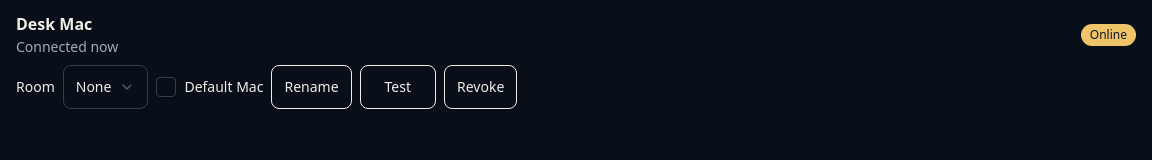
Escape closes the rename input without a request and focus returns to Rename
Click the button "Rename" at coordinates (312, 87), box [272,65,352,109]
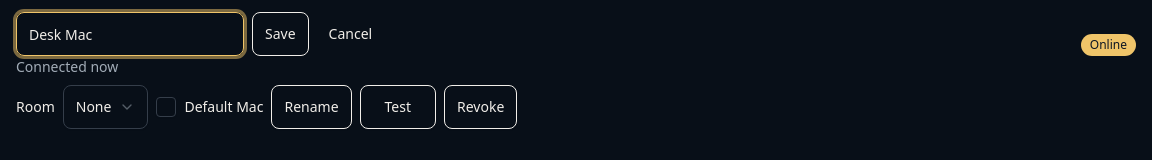
Replace the text in the field named "Mac name" with "Other" at coordinates (130, 34), box [16,12,244,56]
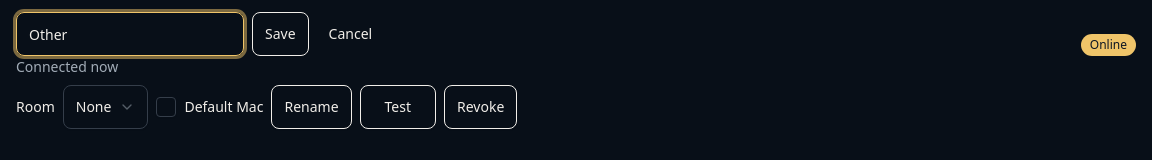
Press Escape in the field named "Mac name", box [16,12,244,56]
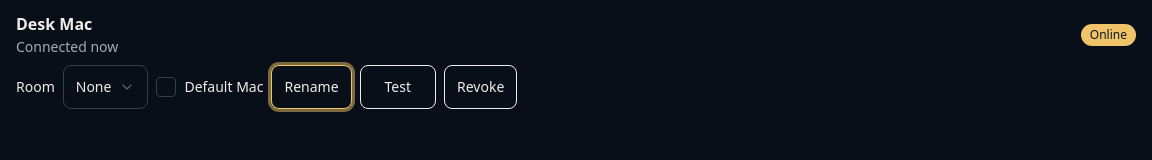
Result: the text "Desk Mac" is shown at [16,12,92,36]
